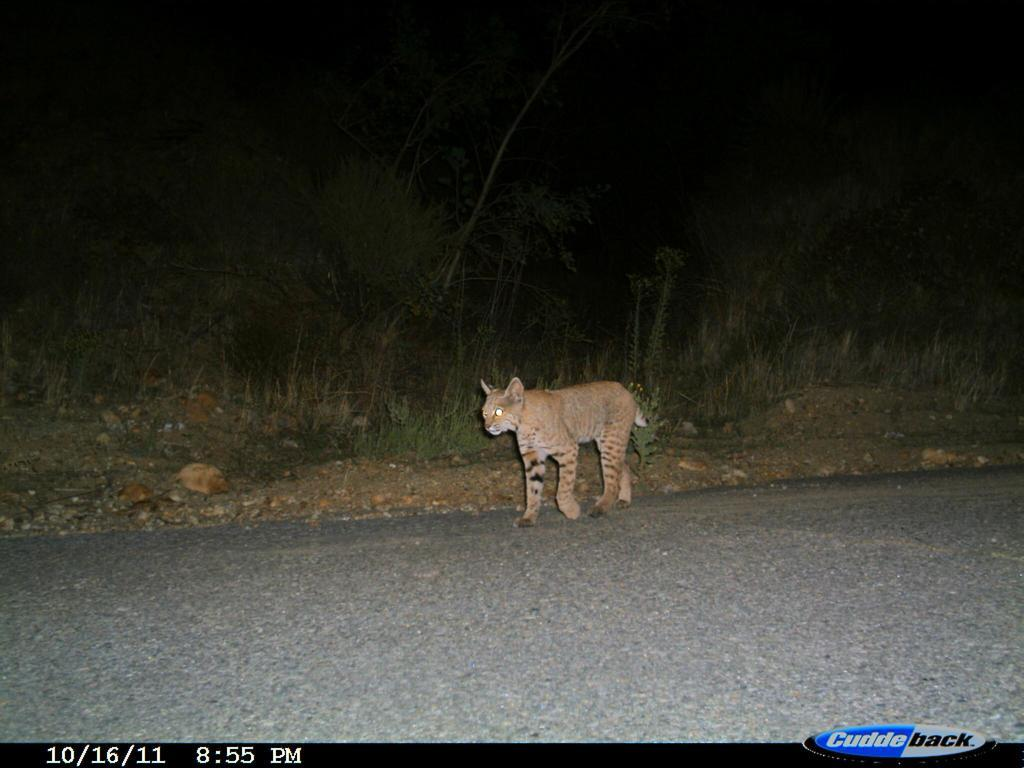bobcat: (470, 372, 660, 541)
